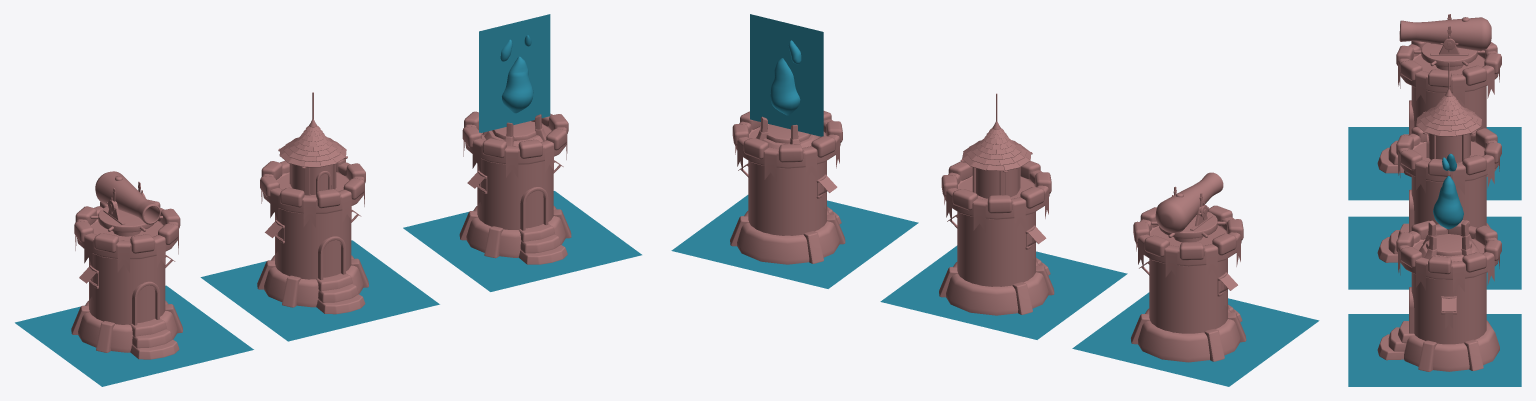
The model's file is Lp(3towers).fbx.
3 views of the same model, side by side, from view 1: azimuth 30°, elevation 25°; view 2: azimuth 150°, elevation 25°; view 3: azimuth 270°, elevation 25° (orthographic). The views are drawn at different scales.
Parts seen in each view (by area): view 1: b23_low (×3), b2_low (×3), m3_low, b1_low (×3), b3_low (×3), b4_low (×3), b4_low3 (×3), b12_low1 (×3), b11_low (×3), p6_low, m4_low, b10_low (×2) (+2 smaller); view 2: b23_low (×3), b2_low (×3), b1_low (×3), m3_low, b3_low (×3), b4_low2 (×3), b12_low1 (×3), p6_low, b4_low3 (×3), m4_low, l2_low, p1_low (+1 smaller); view 3: b23_low (×3), b2_low (×3), b3_low (×3), b4_low1 (×3), p6_low, b1_low, b4_low (×3), b4_low2 (×3), m4_low, b11_low (×3), b5_low2 (×3), b5_low1 (×3) (+16 smaller).
Part boxes in pixels (bbox=[...]): b23_low (×3): bbox=[15, 191, 641, 386]; b2_low (×3): bbox=[89, 159, 553, 324]; m3_low: bbox=[479, 14, 550, 132]; b1_low (×3): bbox=[78, 206, 565, 352]; b3_low (×3): bbox=[77, 120, 566, 259]; b4_low (×3): bbox=[130, 129, 566, 253]; b4_low3 (×3): bbox=[74, 126, 506, 252]; b12_low1 (×3): bbox=[71, 211, 503, 352]; b11_low (×3): bbox=[130, 245, 567, 359]; p6_low: bbox=[95, 171, 160, 224]; m4_low: bbox=[502, 56, 533, 113]; b10_low (×2): bbox=[132, 234, 560, 348]; b23_low (×3): bbox=[671, 195, 1319, 386]; b2_low (×3): bbox=[748, 160, 1227, 333]; b1_low (×3): bbox=[737, 211, 1240, 362]; m3_low: bbox=[750, 14, 823, 136]; b3_low (×3): bbox=[735, 124, 1241, 266]; b4_low2 (×3): bbox=[743, 138, 1204, 260]; b12_low1 (×3): bbox=[803, 214, 1246, 361]; p6_low: bbox=[1155, 172, 1223, 233]; b4_low3 (×3): bbox=[811, 121, 1243, 255]; m4_low: bbox=[770, 58, 800, 115]; l2_low: bbox=[976, 168, 1019, 198]; p1_low: bbox=[1159, 211, 1217, 238]; b23_low (×3): bbox=[1348, 127, 1521, 386]; b2_low (×3): bbox=[1411, 86, 1486, 344]; b3_low (×3): bbox=[1400, 47, 1498, 279]; b4_low1 (×3): bbox=[1428, 65, 1486, 274]; p6_low: bbox=[1399, 17, 1491, 51]; b1_low: bbox=[1404, 320, 1499, 371]; b4_low (×3): bbox=[1396, 45, 1422, 267]; b4_low2 (×3): bbox=[1475, 42, 1501, 260]; m4_low: bbox=[1433, 176, 1463, 229]; b11_low (×3): bbox=[1377, 147, 1404, 360]; b5_low2 (×3): bbox=[1452, 74, 1464, 292]; b5_low1 (×3): bbox=[1416, 70, 1428, 290].
Bounding box in the file's own units: 30.76 × 11.7 × 8.66.
